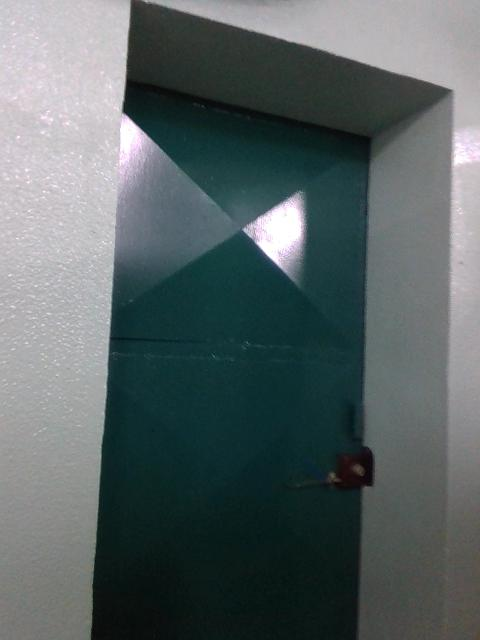door: (87, 84, 370, 637)
